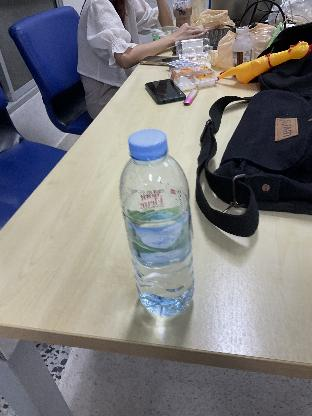Plastic Bottle: (120, 124, 194, 326)
